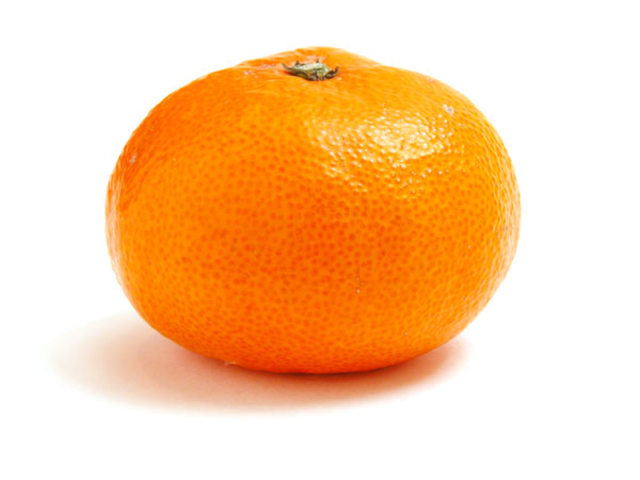orange: (97, 34, 538, 388)
